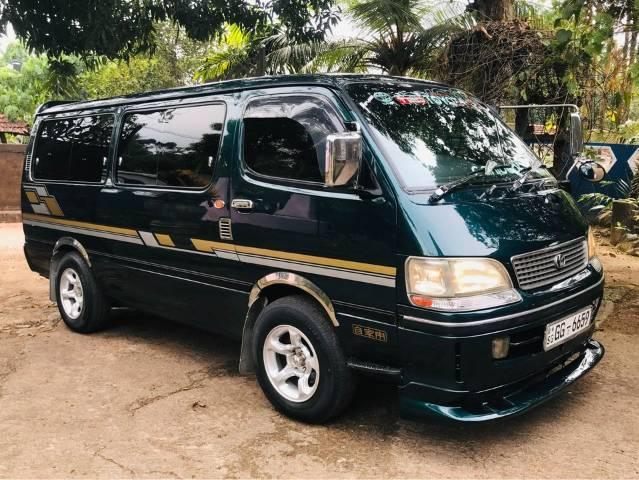car: (29, 69, 606, 426)
